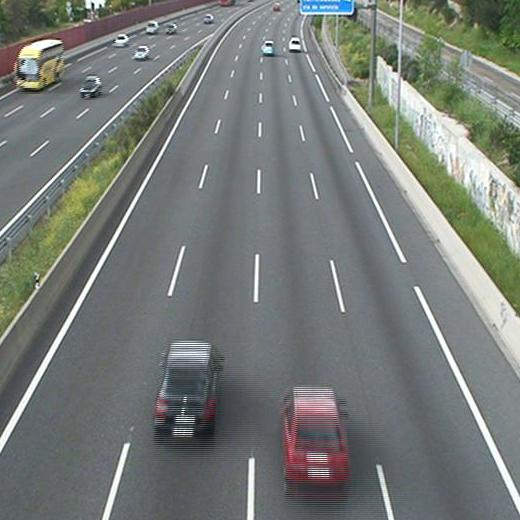car: (153, 342, 217, 427), (282, 389, 347, 471), (287, 37, 300, 50), (262, 41, 274, 55)
